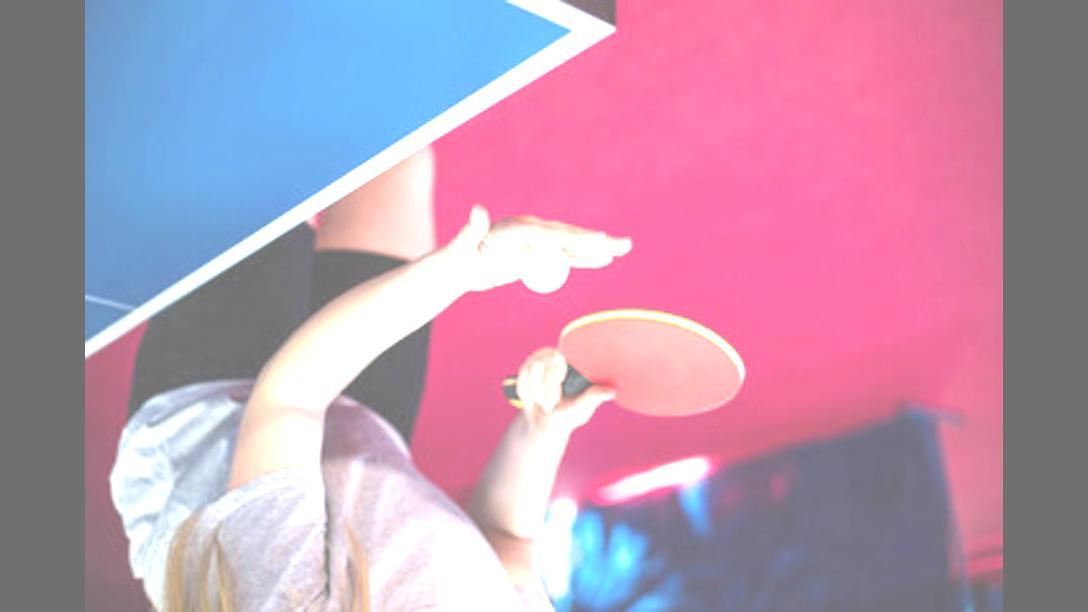Table-Tennis-Ball: (520, 244, 566, 292)
